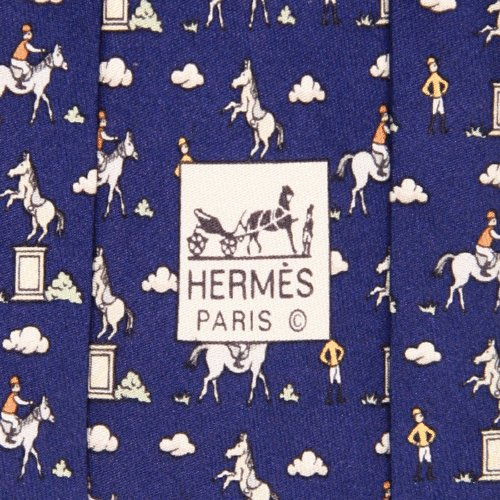HERMES: (183, 183, 321, 337)
